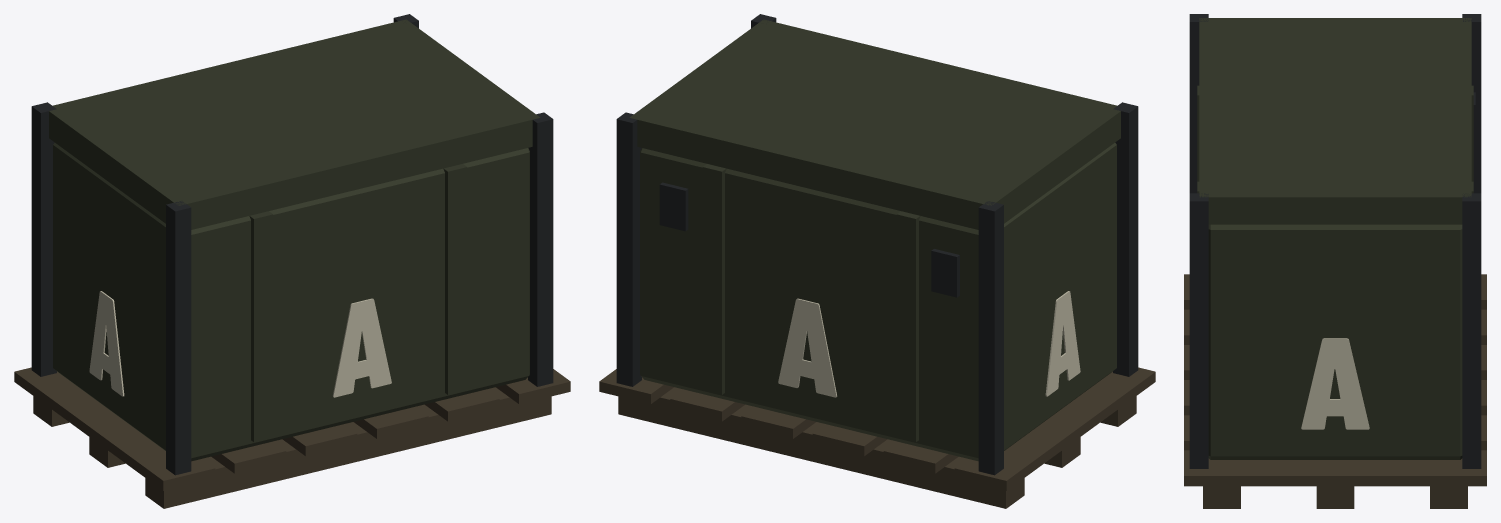
The model's file is charge_site_a.gltf.
3 renders of one model, left to right at view 1: azimuth 30°, elevation 25°; view 2: azimuth 150°, elevation 25°; view 3: azimuth 270°, elevation 25°, orthographic.
Parts seen in each view (by area): view 1: charge_site_a; view 2: charge_site_a; view 3: charge_site_a.
Boxes of the visible parts, x1,y1,x2,y2 form: charge_site_a: (14,14,570,508); charge_site_a: (599,14,1155,508); charge_site_a: (1184,14,1486,508).
Size of the model in its own units: 1.26 by 0.89 by 0.8.
